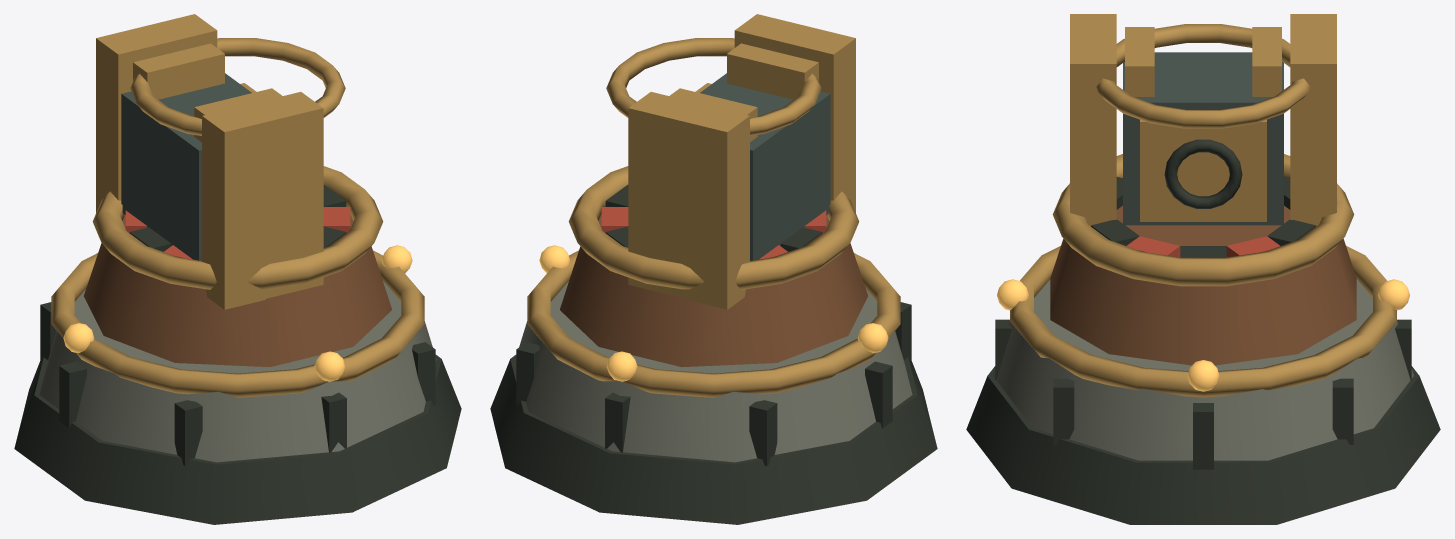
Rendered from tower_gamble_gambleBank_ultimate.glb.
3 views of the same model, side by side, from view 1: azimuth 30°, elevation 25°; view 2: azimuth 150°, elevation 25°; view 3: azimuth 270°, elevation 25° (orthographic). The views are drawn at different scales.
Visible parts, largest first — view 1: foot_0, stone_1, bank_guard_34, table_15, rim_2, vault_29, roulette_rim_16, bank_guard_35, safe_halo_36, vault_crown_33, mortar_6, mortar_7 (+9 smaller); view 2: foot_0, stone_1, bank_guard_35, table_15, rim_2, vault_29, roulette_rim_16, bank_guard_34, safe_halo_36, vault_crown_32, mortar_8, mortar_7 (+9 smaller); view 3: foot_0, stone_1, table_15, rim_2, roulette_rim_16, vault_29, vault_door_30, bank_guard_34, bank_guard_35, safe_halo_36, safe_lock_31, vault_crown_32 (+14 smaller).
Part boxes in pixels (x1,y1,x2,y2): foot_0: (14, 355, 461, 524); stone_1: (39, 281, 436, 462); bank_guard_34: (202, 92, 323, 309); table_15: (83, 214, 391, 367); rim_2: (51, 250, 424, 397); vault_29: (121, 73, 251, 260); roulette_rim_16: (92, 166, 383, 289); bank_guard_35: (96, 14, 217, 215); safe_halo_36: (130, 38, 345, 135); vault_crown_33: (133, 43, 224, 99); mortar_6: (174, 400, 202, 465); mortar_7: (59, 361, 86, 428); foot_0: (490, 355, 937, 524); stone_1: (515, 281, 912, 462); bank_guard_35: (628, 92, 749, 309); table_15: (560, 214, 868, 367); rim_2: (527, 250, 900, 397); vault_29: (700, 73, 830, 260); roulette_rim_16: (568, 166, 859, 289); bank_guard_34: (734, 14, 855, 215); safe_halo_36: (606, 38, 821, 135); vault_crown_32: (727, 43, 818, 99); mortar_8: (749, 400, 777, 465); mortar_7: (865, 361, 892, 428); foot_0: (966, 366, 1440, 524); stone_1: (993, 279, 1413, 460); table_15: (1050, 206, 1356, 365); rim_2: (1010, 246, 1396, 397); roulette_rim_16: (1052, 154, 1354, 286); vault_29: (1123, 52, 1283, 225); vault_door_30: (1140, 119, 1266, 221); bank_guard_34: (1070, 14, 1116, 246); bank_guard_35: (1290, 14, 1336, 246); safe_halo_36: (1096, 24, 1310, 128); safe_lock_31: (1164, 139, 1242, 208); vault_crown_32: (1125, 27, 1154, 96).
Size of the model in its own units: 0.5326 by 0.49 by 0.56.
